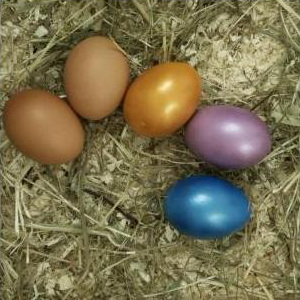egg: (3, 90, 85, 164), (123, 62, 200, 138), (185, 106, 273, 170), (64, 36, 129, 120), (165, 176, 250, 239)
